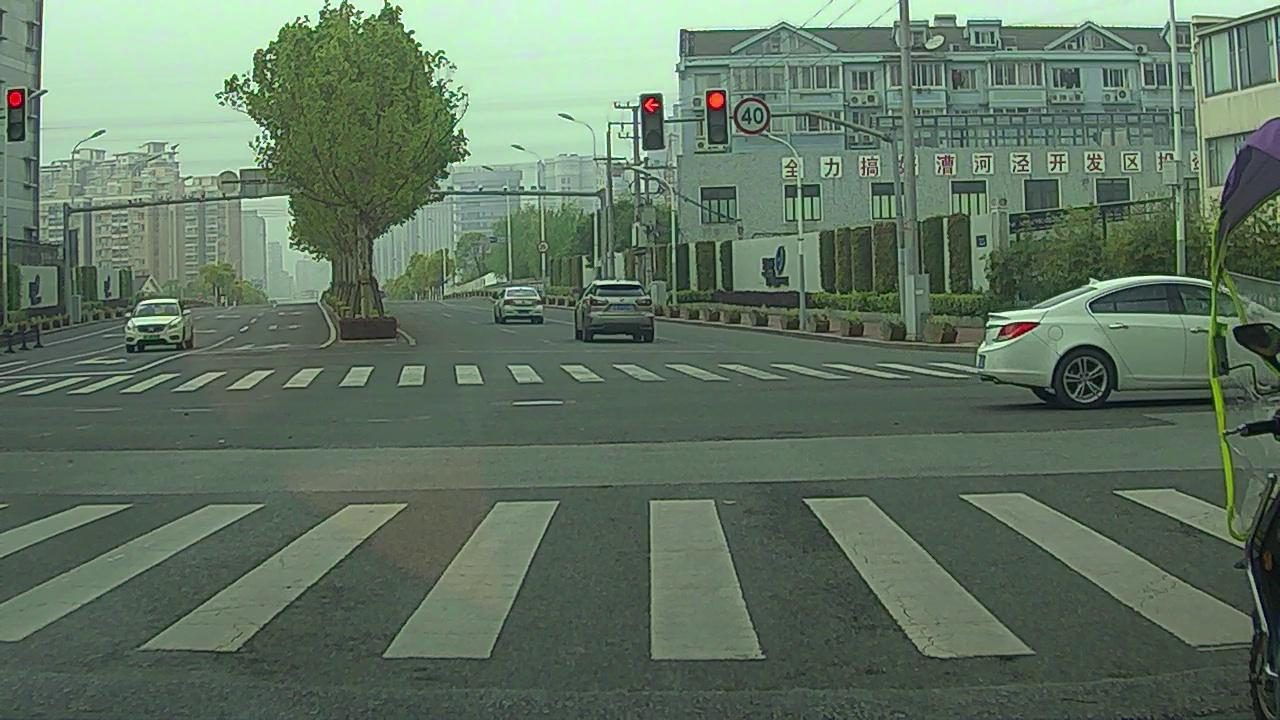traffic_light: (642, 94, 665, 149), (706, 90, 728, 144), (9, 88, 25, 144)
